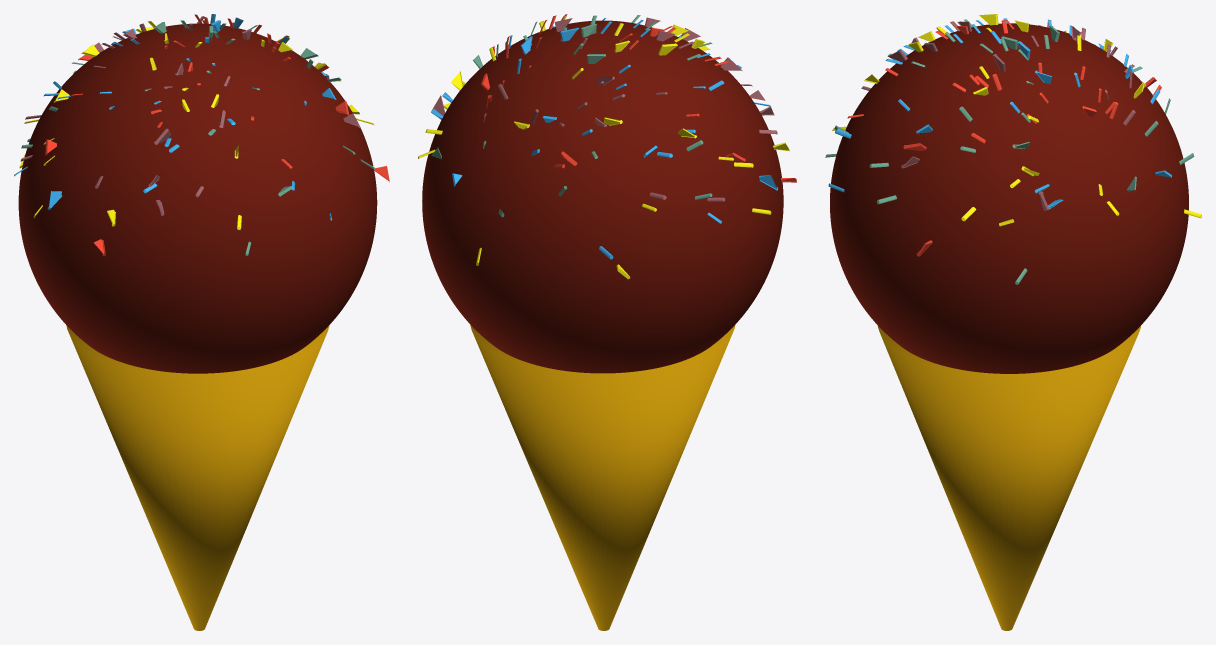
The model's file is icecreamCha.glb.
3 renders of one model, left to right at view 1: azimuth 30°, elevation 25°; view 2: azimuth 150°, elevation 25°; view 3: azimuth 270°, elevation 25°, orthographic.
Visible parts, largest first — view 1: Scoop.002, WaffleCone.002; view 2: Scoop.002, WaffleCone.002; view 3: Scoop.002, WaffleCone.002.
Part boxes in pixels (left/top/right/bottom): Scoop.002: left=18, top=23, right=377, bottom=373; WaffleCone.002: left=66, top=325, right=329, bottom=630; Scoop.002: left=422, top=20, right=783, bottom=373; WaffleCone.002: left=470, top=325, right=735, bottom=630; Scoop.002: left=830, top=23, right=1188, bottom=373; WaffleCone.002: left=877, top=325, right=1140, bottom=630.
Size of the model in its own units: 1.6 by 2.74 by 1.57.
